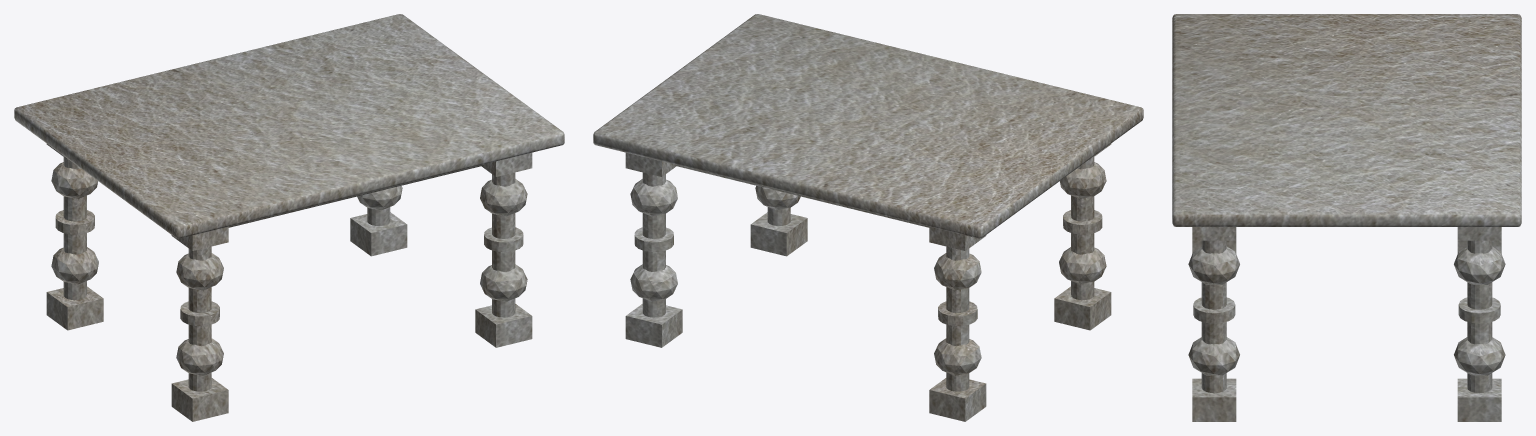
File: Antique_Table_05.fbx
3 renders of one model, left to right at view 1: azimuth 30°, elevation 25°; view 2: azimuth 150°, elevation 25°; view 3: azimuth 270°, elevation 25°, orthographic. The views are drawn at different scales.
Visible parts, largest first — view 1: Antique_Table; view 2: Antique_Table; view 3: Antique_Table.
Boxes of the visible parts, x1,y1,x2,y2 form: Antique_Table: [14, 14, 564, 421]; Antique_Table: [593, 14, 1143, 421]; Antique_Table: [1172, 14, 1521, 421].
Size of the model in its own units: 1.49 by 0.76 by 1.09.
1 material, 1 textured.
